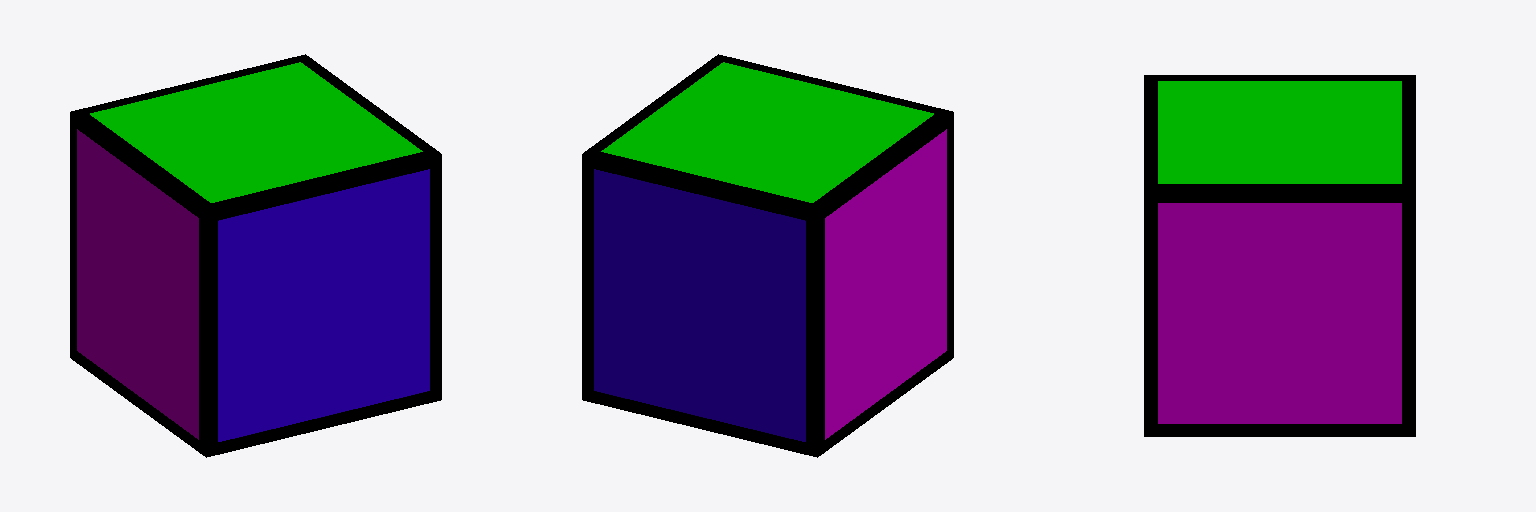
Rendered from colored_cube.obj.
3 renders of one model, left to right at view 1: azimuth 30°, elevation 25°; view 2: azimuth 150°, elevation 25°; view 3: azimuth 270°, elevation 25°, orthographic.
Visible parts, largest first — view 1: Cube; view 2: Cube; view 3: Cube.
Part boxes in pixels (bbox=[...]): Cube: bbox=[70, 54, 441, 457]; Cube: bbox=[582, 54, 953, 457]; Cube: bbox=[1144, 75, 1415, 436].
Bounding box in the file's own units: 2 × 2 × 2.